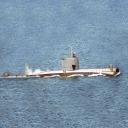submarine: (5, 58, 121, 78)
